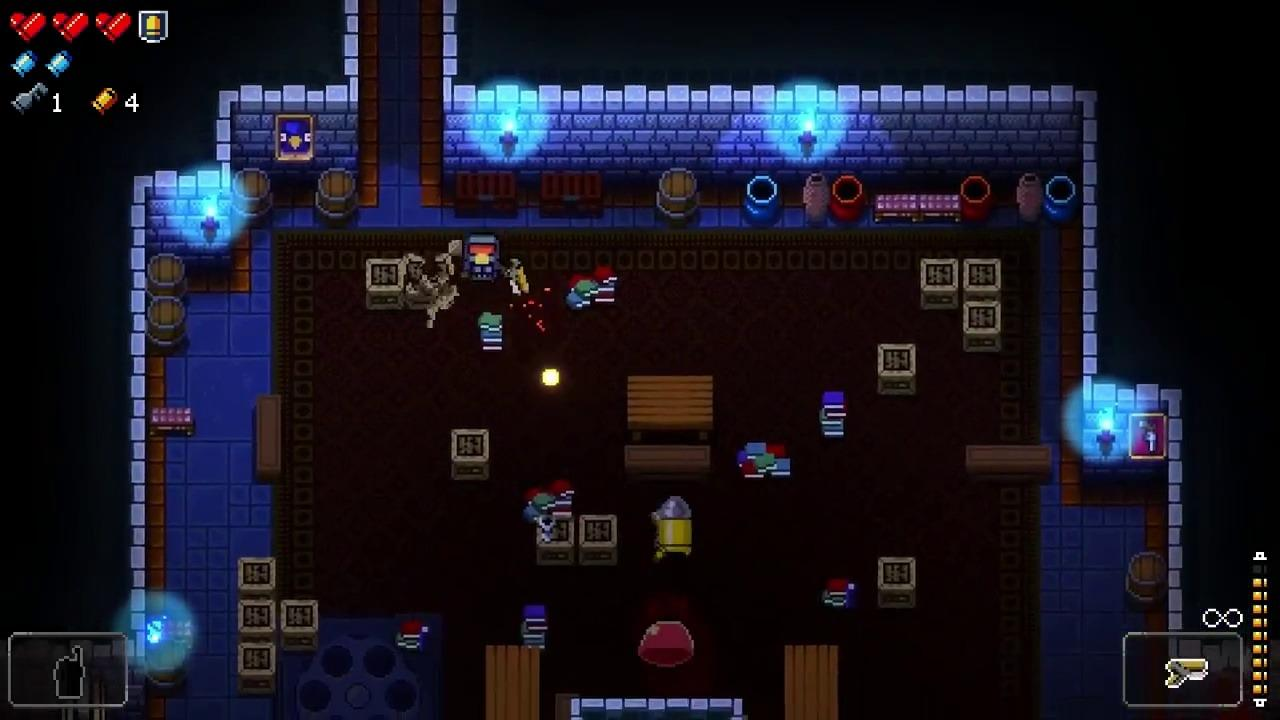blobulon_l: (637, 620, 695, 667)
bullet_kin: (656, 495, 693, 559)
player: (462, 233, 503, 287)
table: (626, 374, 714, 441), (783, 645, 839, 720), (485, 646, 540, 720)
teleporter: (275, 614, 443, 720)
